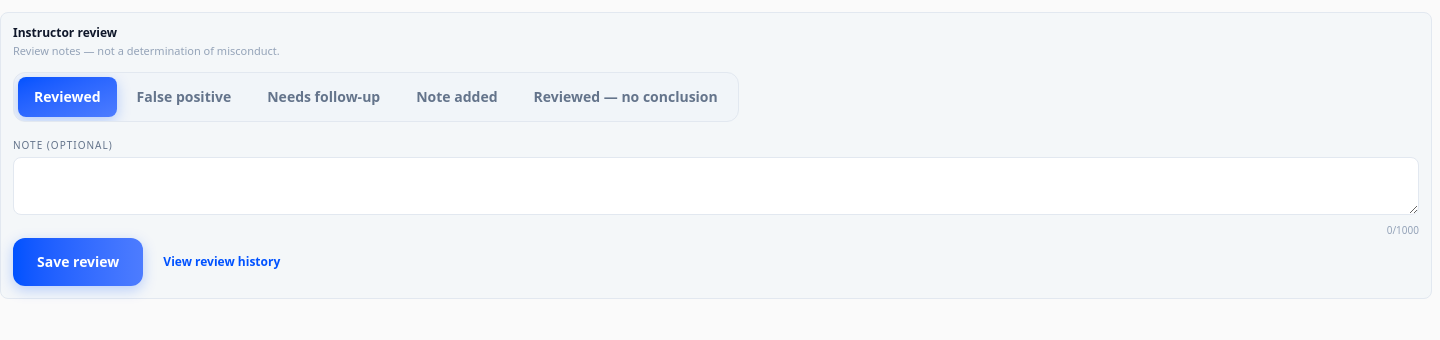
Test case: AlertReviewForm submit (happy path + idempotency) › submits the alert's optimistic version, action and note with the intent key
The width and height of the screenshot is (1440, 340).
Click the button "Needs follow-up" at (324, 96), box [251,76,396,116]
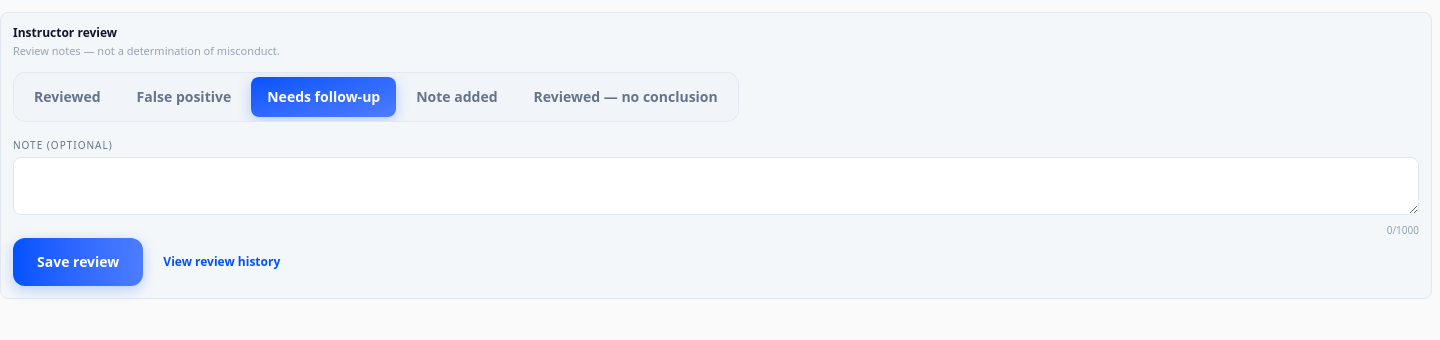
Type "theo dõi thêm" into the text box labelled "Note (optional)" at (716, 186), box [13,156,1419,214]
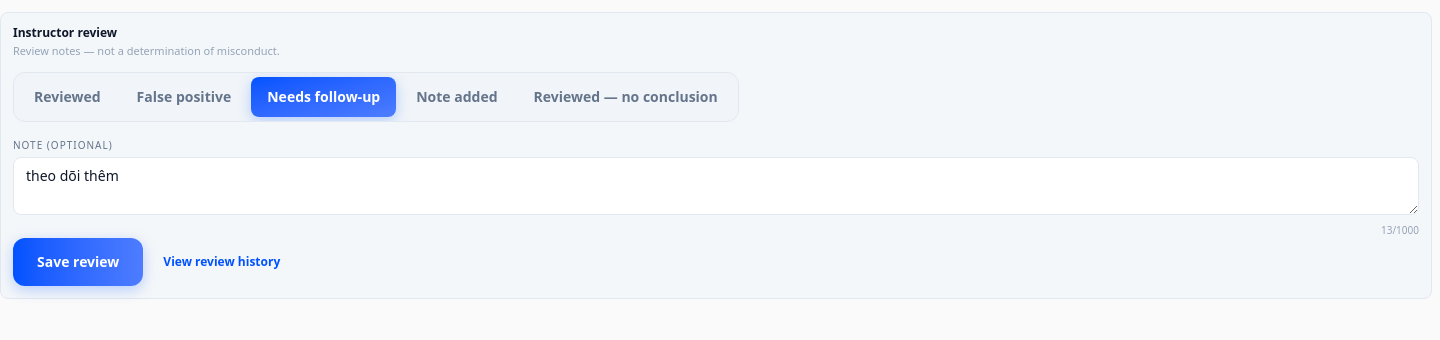
Click the button "Save review" at (78, 262), box [13,238,143,286]
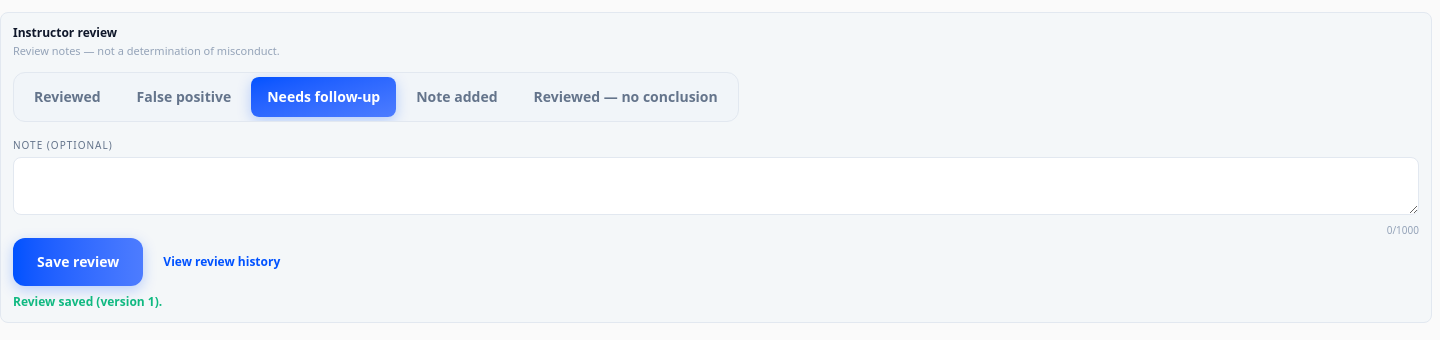
Expected: the text "Review saved (version 1)." is shown, [13,292,162,310]
